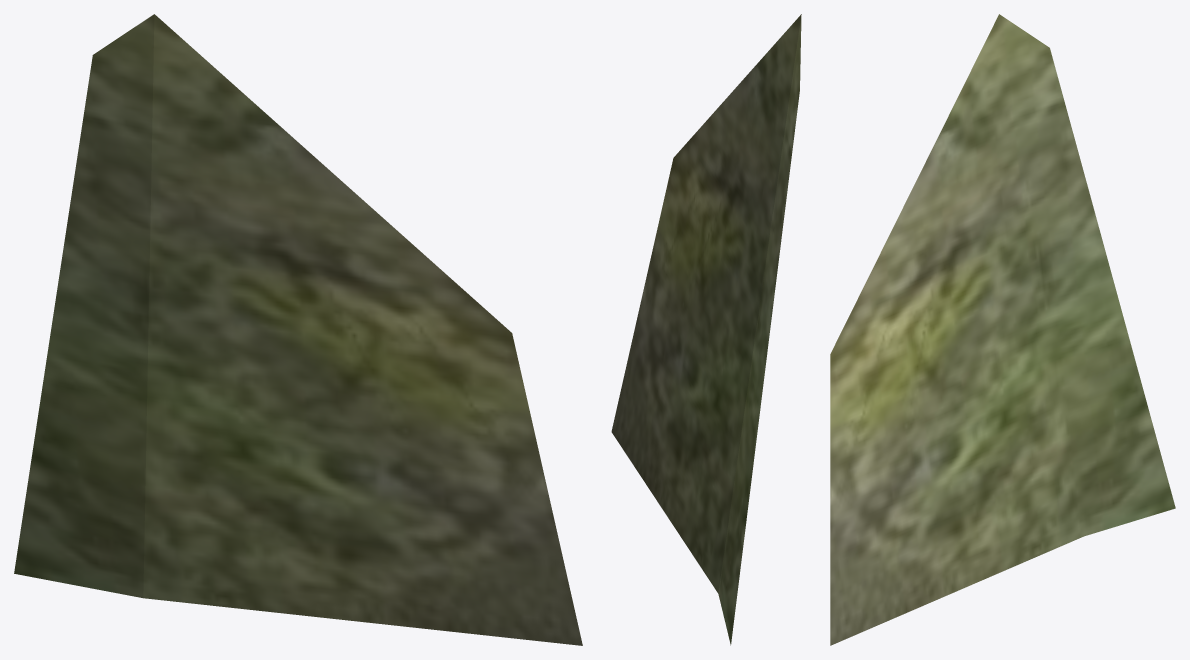
3 views of the same model, side by side, from view 1: azimuth 30°, elevation 25°; view 2: azimuth 150°, elevation 25°; view 3: azimuth 270°, elevation 25° (orthographic). The views are drawn at different scales.
Bounding box in the file's own units: 2.11 × 3.62 × 2.24.
1 material, 1 textured.
